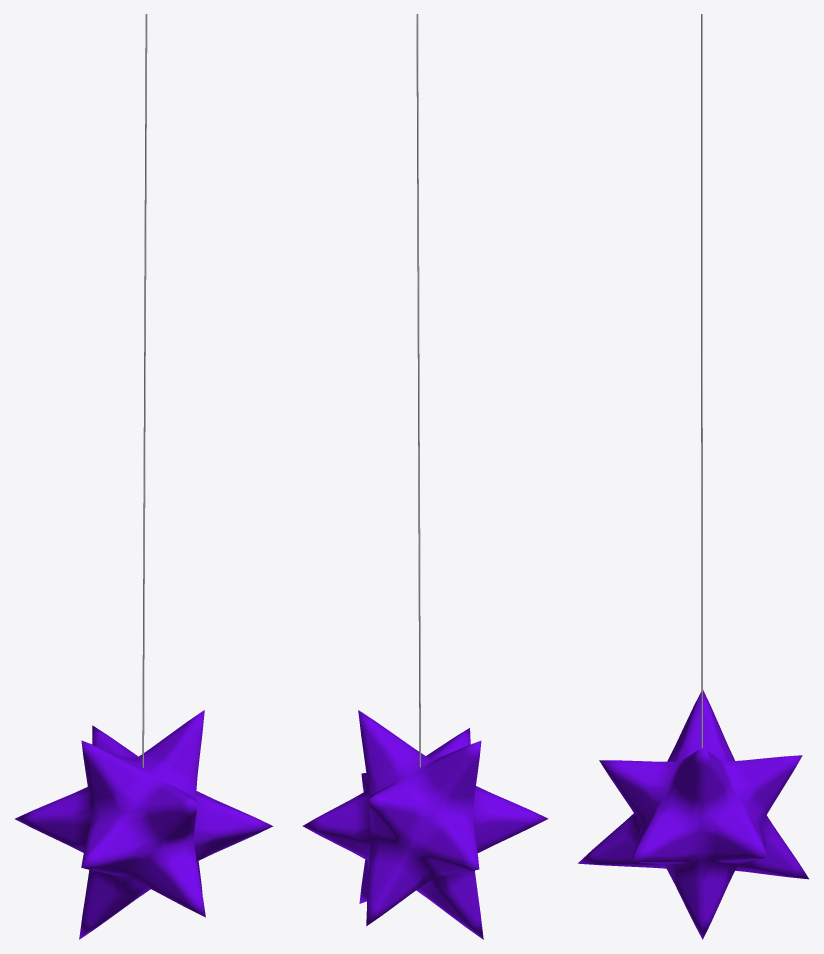
Rendered from Hanging_Star.fbx.
3 views of the same model, side by side, from view 1: azimuth 30°, elevation 25°; view 2: azimuth 150°, elevation 25°; view 3: azimuth 270°, elevation 25° (orthographic).
Parts seen in each view (by area): view 1: HangingStar_A5_Scene, Star_Cable_Scene_001; view 2: HangingStar_A5_Scene, Star_Cable_Scene_001; view 3: HangingStar_A5_Scene, Star_Cable_Scene_001.
Boxes of the visible parts, bbox=[...] form: HangingStar_A5_Scene: bbox=[15, 710, 273, 939]; Star_Cable_Scene_001: bbox=[142, 14, 147, 767]; HangingStar_A5_Scene: bbox=[302, 710, 548, 939]; Star_Cable_Scene_001: bbox=[416, 14, 420, 767]; HangingStar_A5_Scene: bbox=[578, 690, 808, 939]; Star_Cable_Scene_001: bbox=[701, 14, 702, 748].
Bounding box in the file's own units: 104 × 476 × 111.
